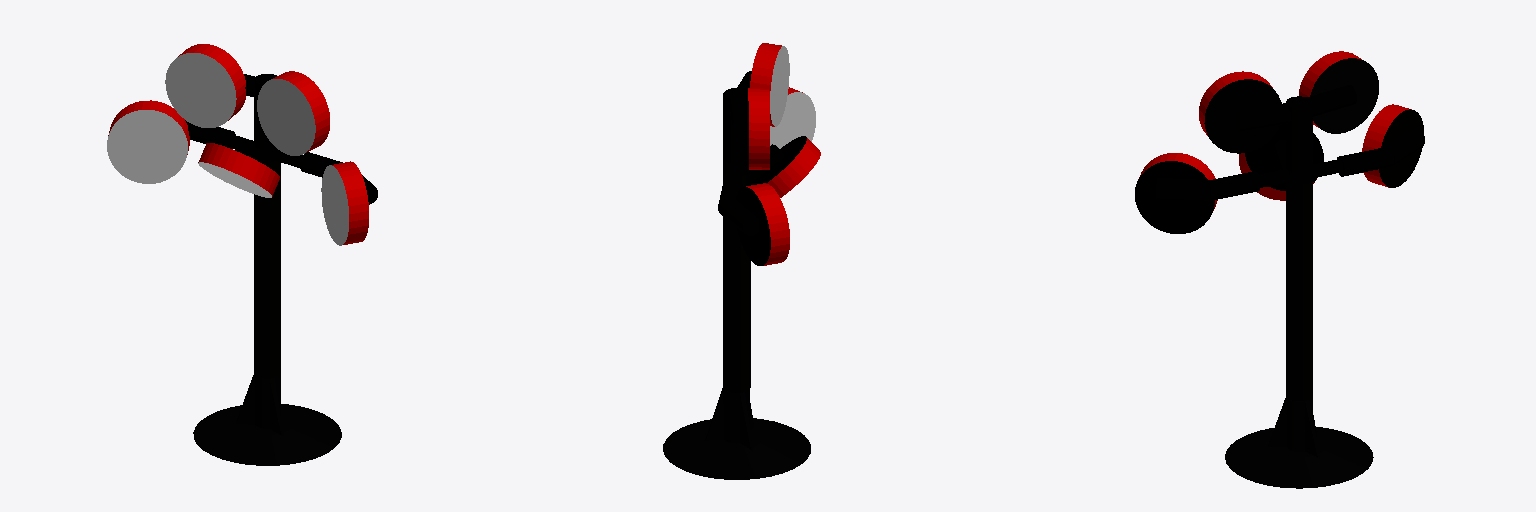
File: boxing-pads-versie4.obj
3 views of the same model, side by side, from view 1: azimuth 30°, elevation 25°; view 2: azimuth 150°, elevation 25°; view 3: azimuth 270°, elevation 25° (orthographic).
Visible parts, largest first — view 1: plateau_Cylinder.002, dunne_stang_left_hook.005_Cylinder.010, dunne_stang_left_hook.008_Cylinder.014, onderkant_stang_Cylinder.001, dunne_stang_left_hook.011_Cylinder.017, dunne_stang_left_hook.003_Cylinder.020, dunne_stang_left_hook.013_Cylinder.022, driehoekpoot_Cylinder, middenstuk_stang.001_Cylinder.013, dunne_stang_left_hook.006_Cylinder.011, dunne_stang_left_hook.002_Cylinder.019; view 2: plateau_Cylinder.002, onderkant_stang_Cylinder.001, dunne_stang_left_hook.005_Cylinder.010, dunne_stang_left_hook.011_Cylinder.017, driehoekpoot_Cylinder, dunne_stang_left_hook.013_Cylinder.022, dunne_stang_left_hook.008_Cylinder.014, dunne_stang_left_hook.003_Cylinder.020, middenstuk_stang.001_Cylinder.013, dunne_stang_left_hook.004_Cylinder.003, dunne_stang_left_hook.009_Cylinder.015; view 3: plateau_Cylinder.002, onderkant_stang_Cylinder.001, dunne_stang_left_hook.011_Cylinder.017, dunne_stang_left_hook.003_Cylinder.020, dunne_stang_left_hook.008_Cylinder.014, dunne_stang_left_hook.005_Cylinder.010, driehoekpoot_Cylinder, middenstuk_stang.001_Cylinder.013, dunne_stang_left_hook.013_Cylinder.022, dunne_stang_left_hook.010_Cylinder.016, dunne_stang_left_hook.012_Cylinder.021, dunne_stang_left_hook.006_Cylinder.011 (+3 smaller).
Boxes of the visible parts, box(x1,y1,x2,y2) form: plateau_Cylinder.002: box(193, 404, 341, 465); dunne_stang_left_hook.005_Cylinder.010: box(107, 100, 189, 183); dunne_stang_left_hook.008_Cylinder.014: box(165, 44, 245, 127); onderkant_stang_Cylinder.001: box(254, 161, 280, 378); dunne_stang_left_hook.011_Cylinder.017: box(257, 71, 329, 155); dunne_stang_left_hook.003_Cylinder.020: box(321, 161, 368, 245); dunne_stang_left_hook.013_Cylinder.022: box(198, 143, 279, 197); driehoekpoot_Cylinder: box(236, 374, 283, 435); middenstuk_stang.001_Cylinder.013: box(254, 74, 276, 149); dunne_stang_left_hook.006_Cylinder.011: box(186, 122, 235, 148); dunne_stang_left_hook.002_Cylinder.019: box(300, 152, 342, 177); plateau_Cylinder.002: box(663, 418, 810, 479); onderkant_stang_Cylinder.001: box(723, 172, 750, 392); dunne_stang_left_hook.005_Cylinder.010: box(736, 183, 789, 265); dunne_stang_left_hook.011_Cylinder.017: box(750, 43, 789, 126); driehoekpoot_Cylinder: box(705, 388, 754, 450); dunne_stang_left_hook.013_Cylinder.022: box(750, 136, 820, 197); dunne_stang_left_hook.008_Cylinder.014: box(748, 88, 769, 169); dunne_stang_left_hook.003_Cylinder.020: box(770, 87, 815, 148); middenstuk_stang.001_Cylinder.013: box(723, 88, 747, 164); dunne_stang_left_hook.004_Cylinder.003: box(719, 198, 758, 235); dunne_stang_left_hook.009_Cylinder.015: box(730, 99, 747, 136); plateau_Cylinder.002: box(1225, 427, 1373, 488); onderkant_stang_Cylinder.001: box(1286, 181, 1312, 400); dunne_stang_left_hook.011_Cylinder.017: box(1199, 71, 1281, 153); dunne_stang_left_hook.003_Cylinder.020: box(1135, 153, 1217, 233); dunne_stang_left_hook.008_Cylinder.014: box(1299, 51, 1378, 133); dunne_stang_left_hook.005_Cylinder.010: box(1362, 104, 1423, 187); driehoekpoot_Cylinder: box(1268, 397, 1319, 457); middenstuk_stang.001_Cylinder.013: box(1286, 96, 1312, 172); dunne_stang_left_hook.013_Cylinder.022: box(1239, 124, 1323, 200); dunne_stang_left_hook.010_Cylinder.016: box(1235, 103, 1290, 131); dunne_stang_left_hook.012_Cylinder.021: box(1156, 178, 1211, 200); dunne_stang_left_hook.006_Cylinder.011: box(1337, 147, 1393, 176).
Bounding box in the file's own units: 1.46 × 3.1 × 2.14.